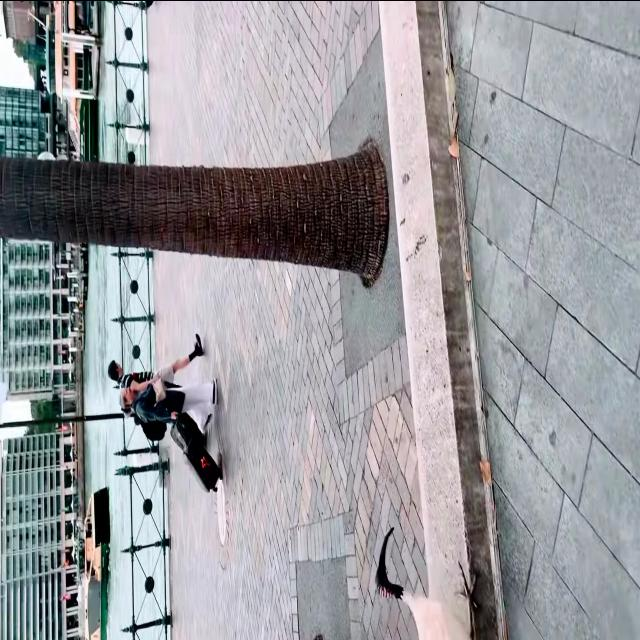Birds-Ibis: (369, 522, 487, 640)
